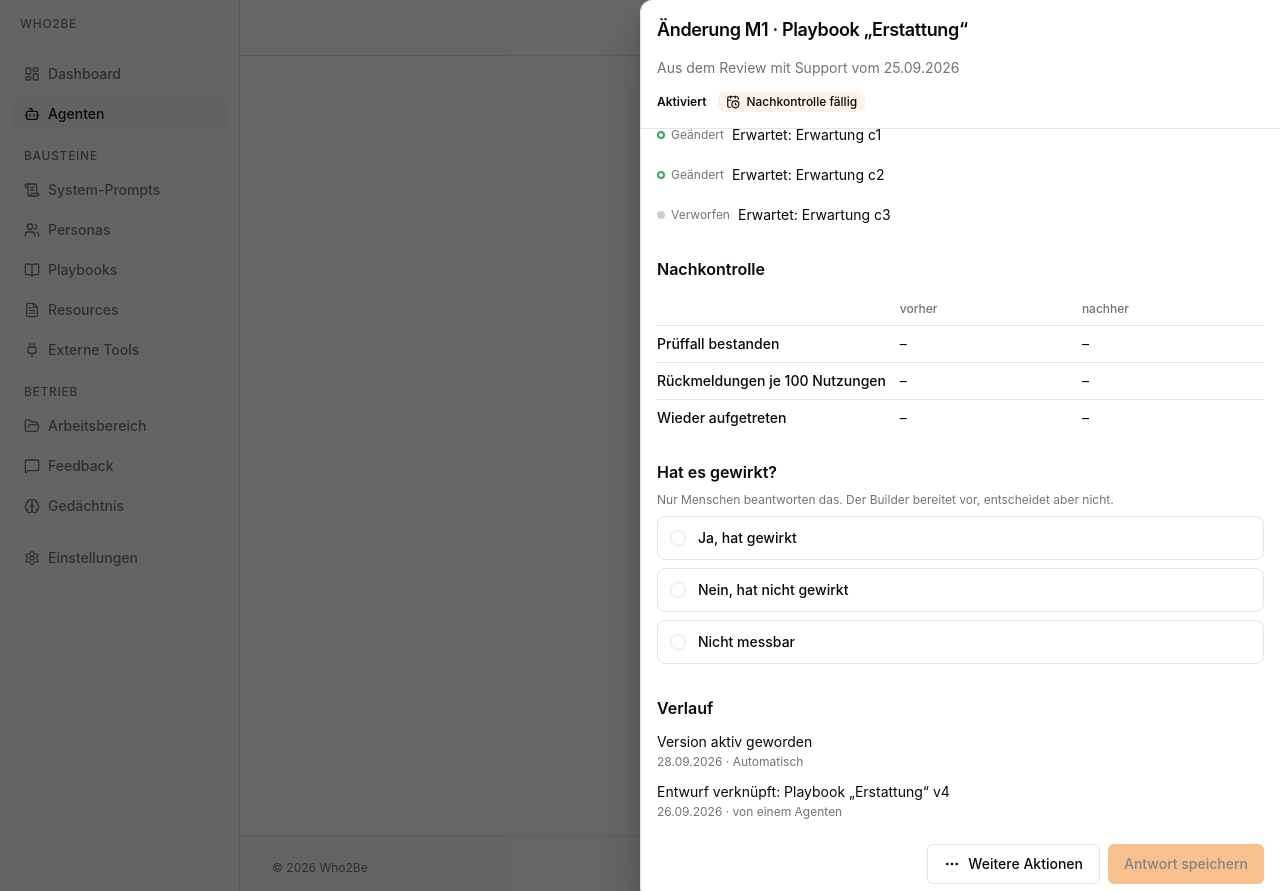
Test: ChangeActions: Fehler › missing_capability (403): Rechte-Text ab Rolle Editor
(page scrolled)
Click the radio button named "Ja, hat gewirkt" next to "Ja, hat gewirkt" at (678, 538), box [670,530,686,546]
(page scrolled)
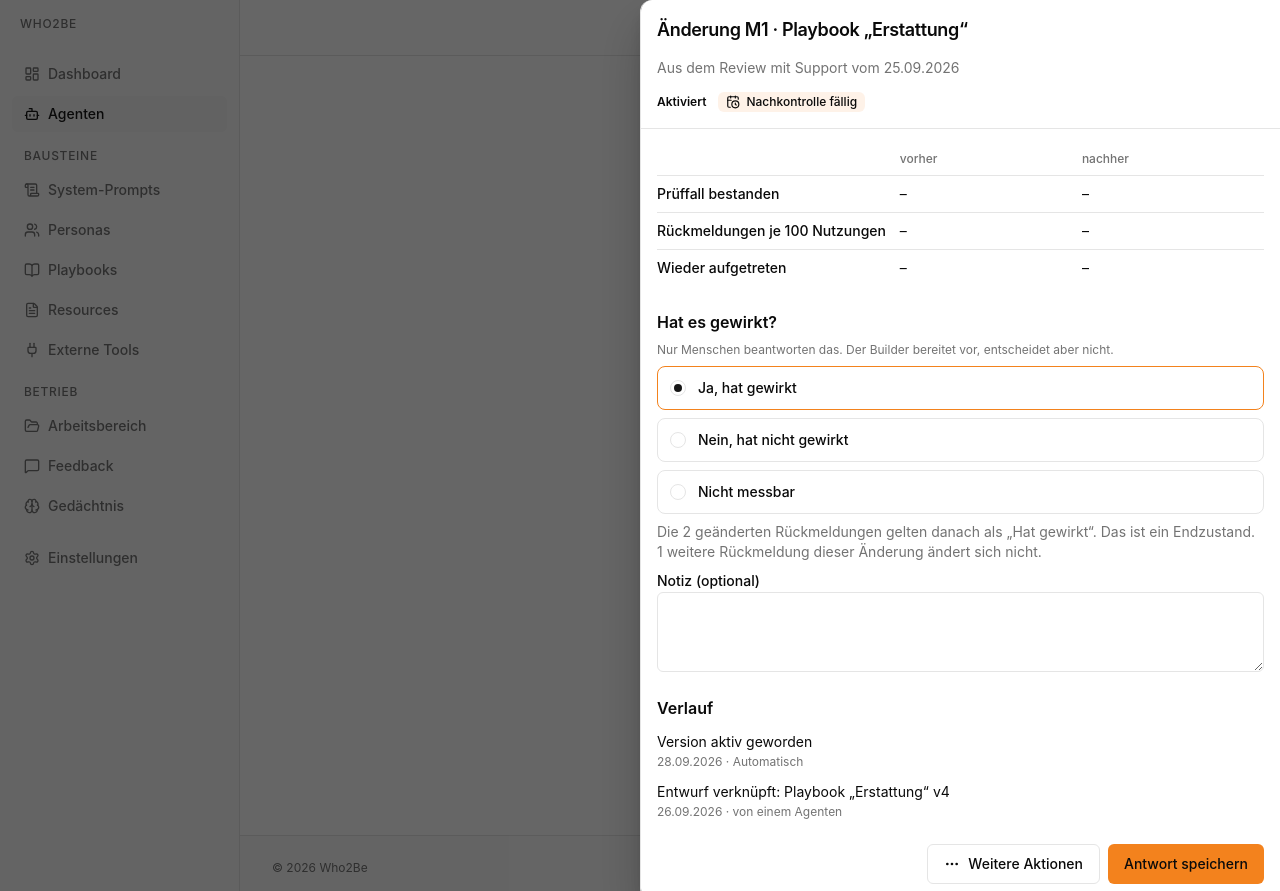
Click the button "Antwort speichern" at (1186, 864), box [1108,844,1264,884]
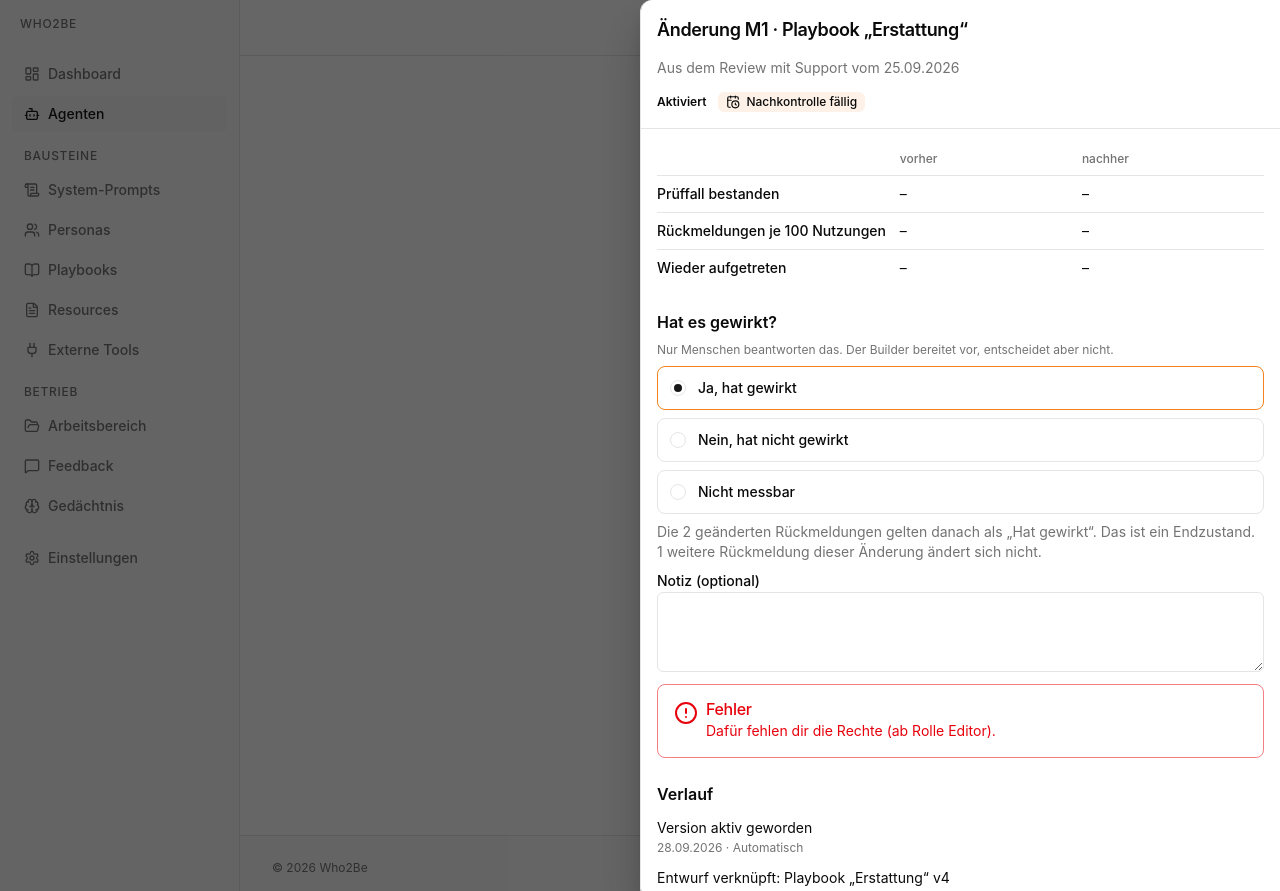
Expected: the message shows "Dafür fehlen dir die Rechte (ab Rolle Editor).", [706,722,996,739]
